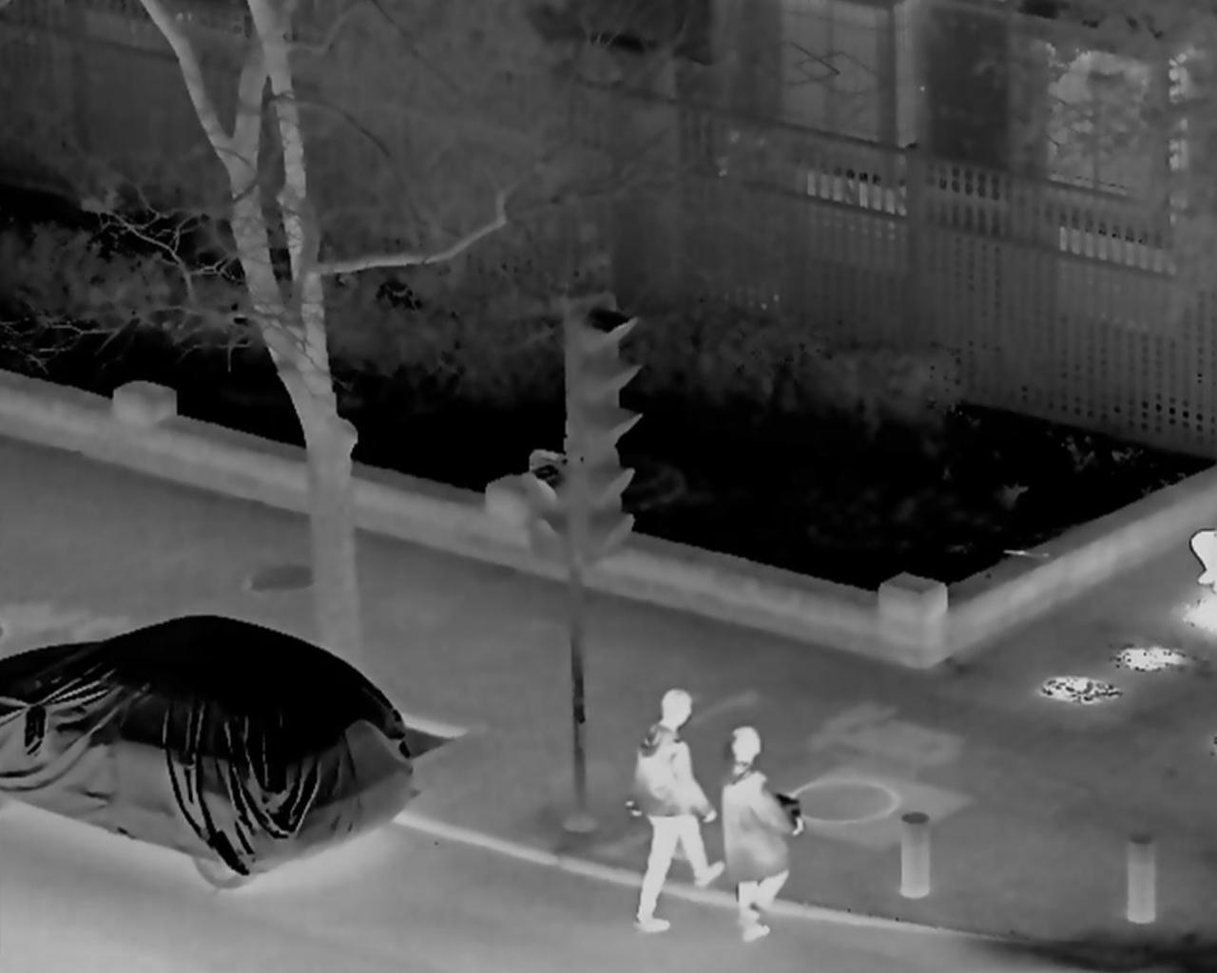person: (628, 687, 727, 931), (717, 726, 809, 959)
